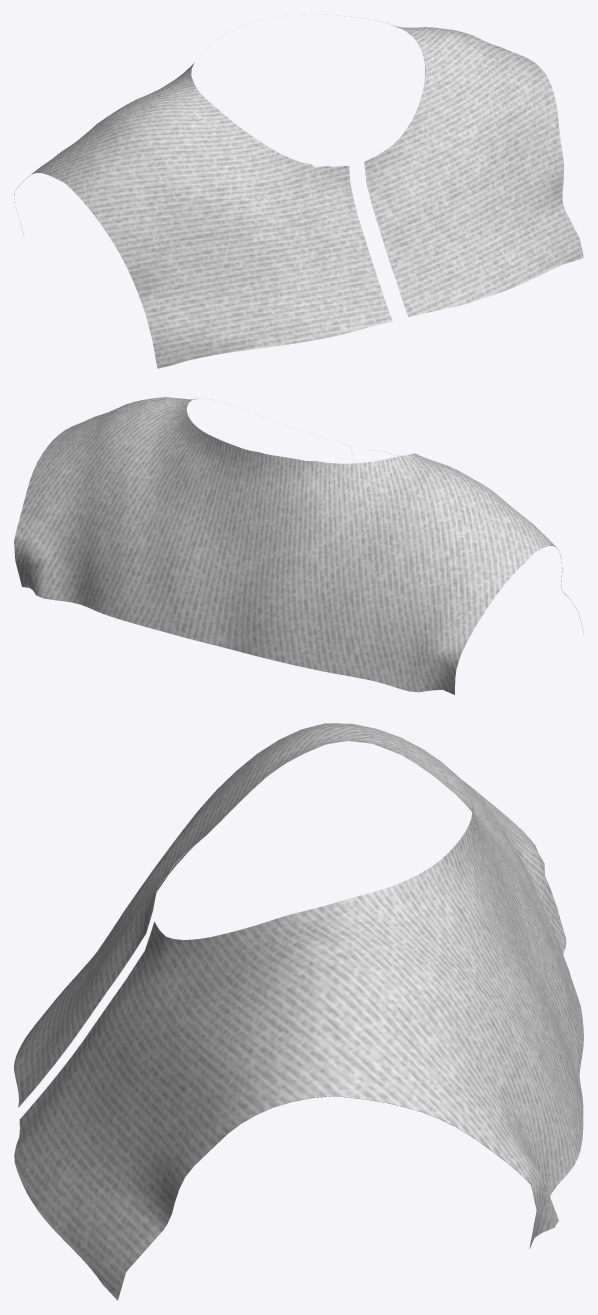
The model's file is Decor_Breast.glb.
3 renders of one model, top to bottom at view 1: azimuth 30°, elevation 25°; view 2: azimuth 150°, elevation 25°; view 3: azimuth 270°, elevation 25°, orthographic. The views are drawn at different scales.
Parts seen in each view (by area): view 1: Decor_Breast1; view 2: Decor_Breast1; view 3: Decor_Breast1.
Part boxes in pixels (x1,y1,x2,y2): Decor_Breast1: (14,14,583,368); Decor_Breast1: (14,397,583,694); Decor_Breast1: (14,723,583,1300).
Bounding box in the file's own units: 0.702 × 0.303 × 0.464.
Materials: 1 (1 with a texture image).
